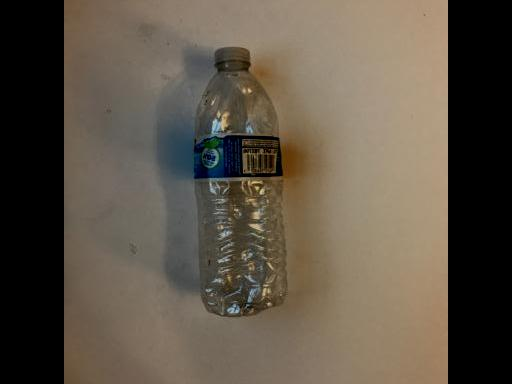bottle: (186, 34, 298, 327)
